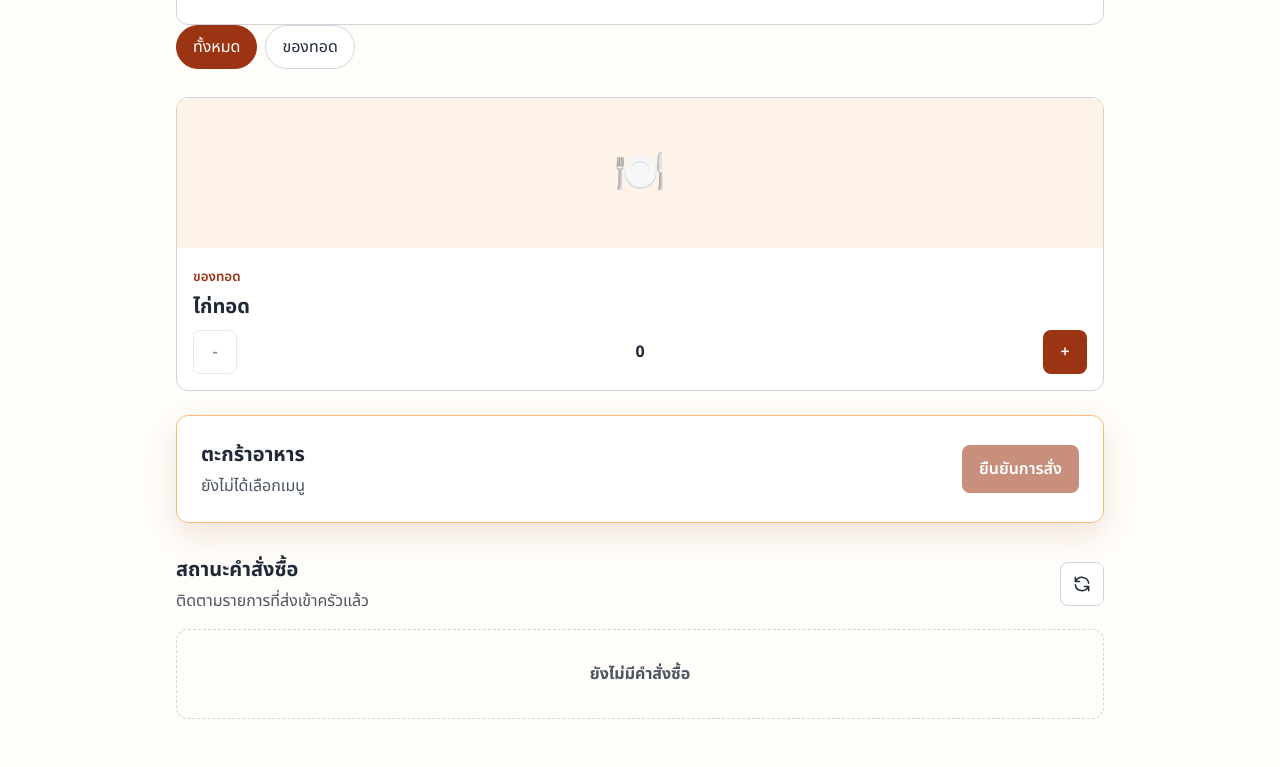
Scenario: keeps one order with its latest PREPARING status when refresh sees it before acknowledgement
(page scrolled)
Click the button named "อัปเดตสถานะคำสั่งซื้อ": (1082, 584) [1060,562,1104,606]
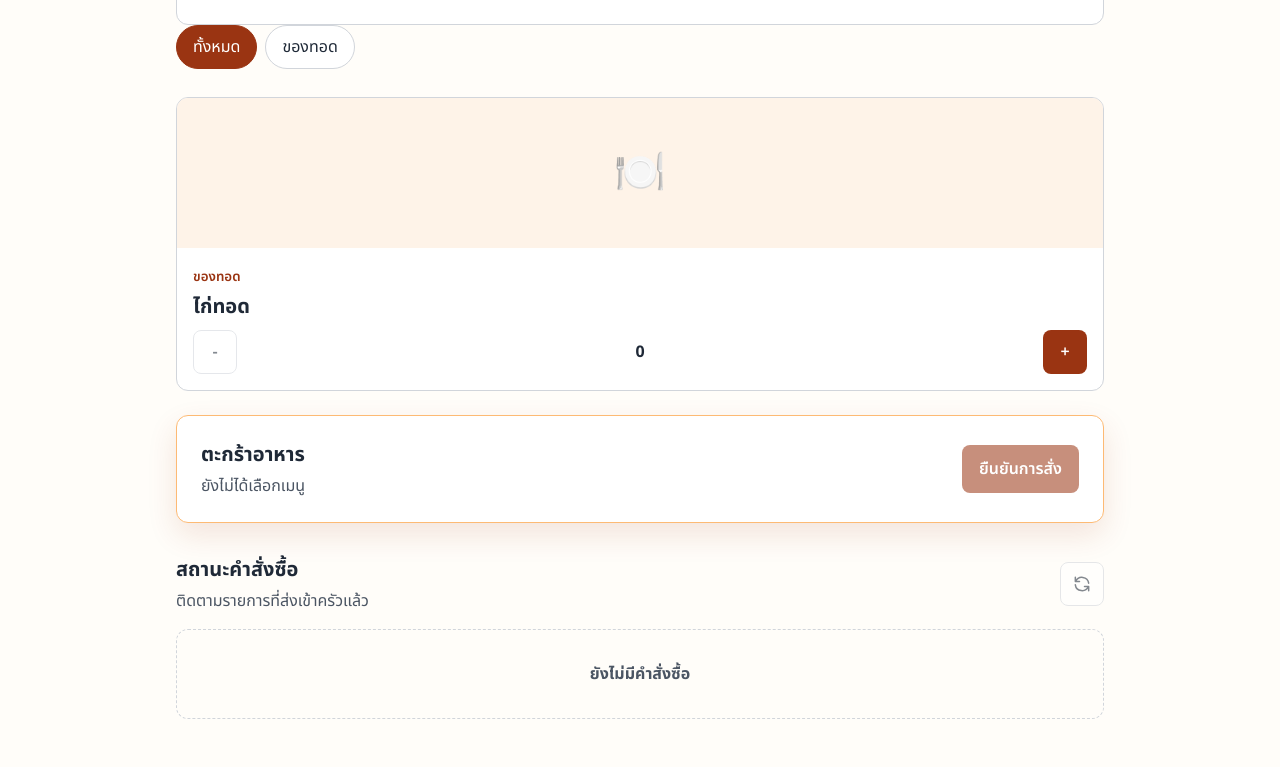
Click the button named "เพิ่ม ไก่ทอด": (1065, 352) [1043,330,1087,374]
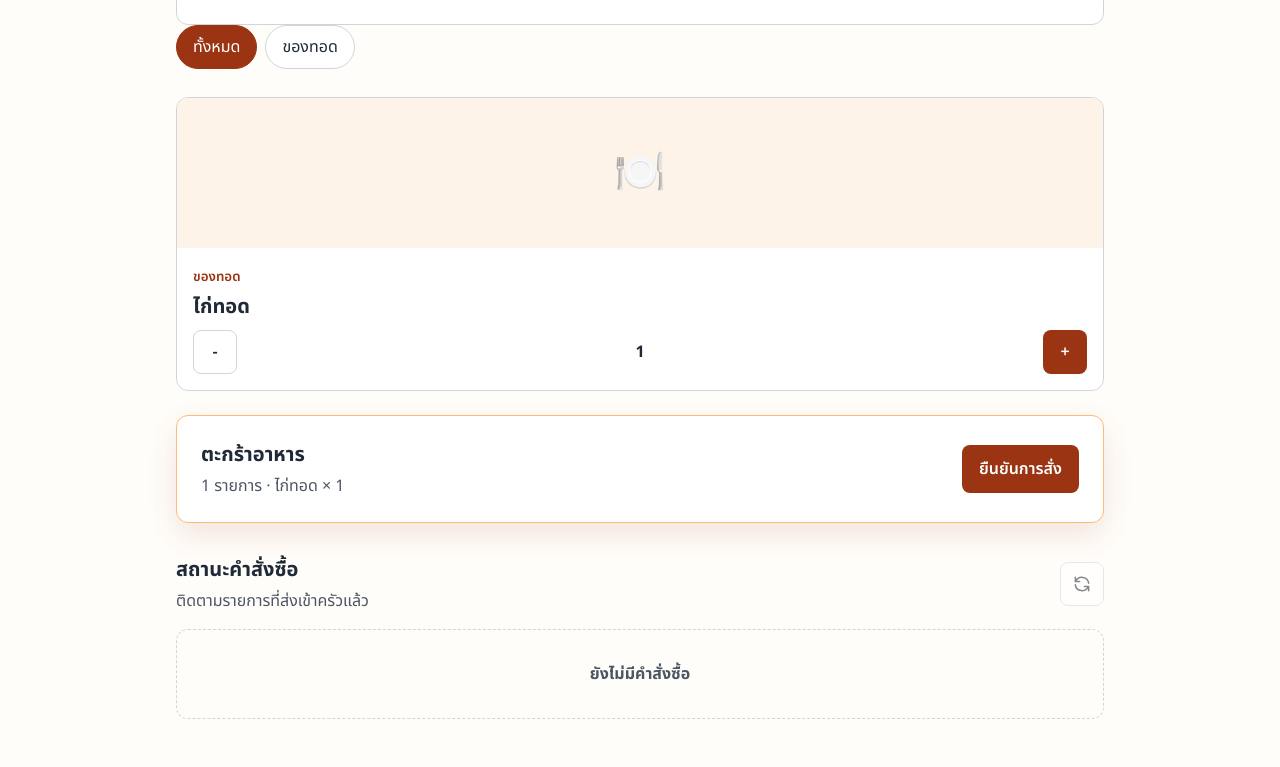
Click the button "ยืนยันการสั่ง": (1020, 469) [962,445,1079,493]
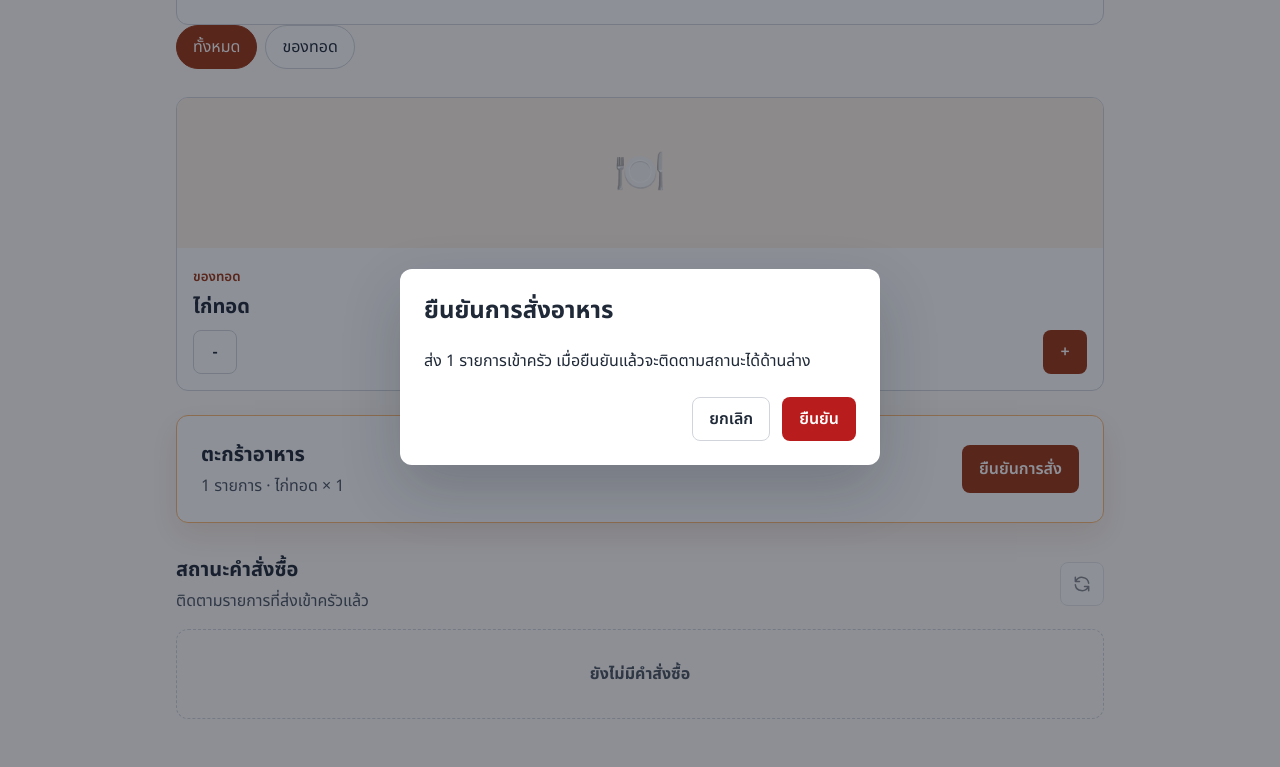
Click the button "ยืนยัน": (819, 419) [782,397,856,441]
(page scrolled)
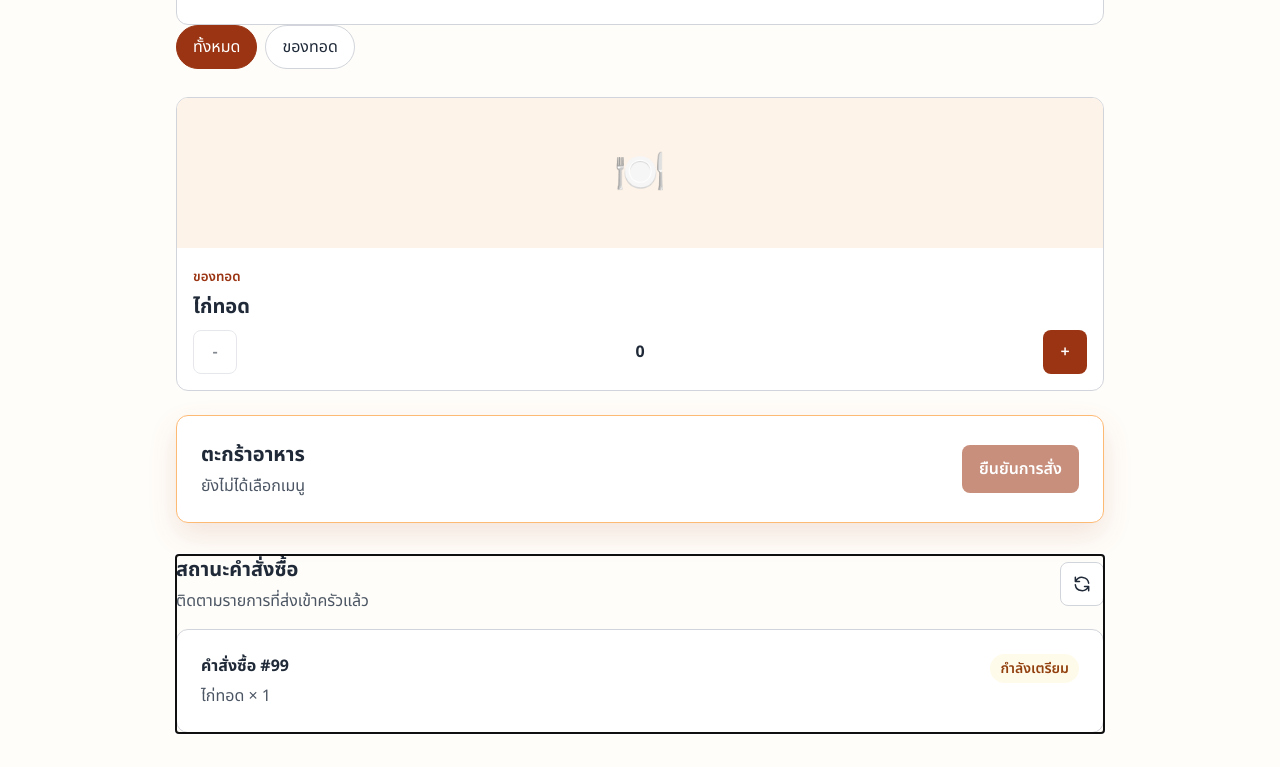
Expected: the text "คำสั่งซื้อ #99" is shown once, [201,654,289,678]
Now the text "คำสั่งซื้อ #99" is shown, box [201,654,289,678]
Now the text "กำลังเตรียม" is shown, box [990,654,1079,683]
